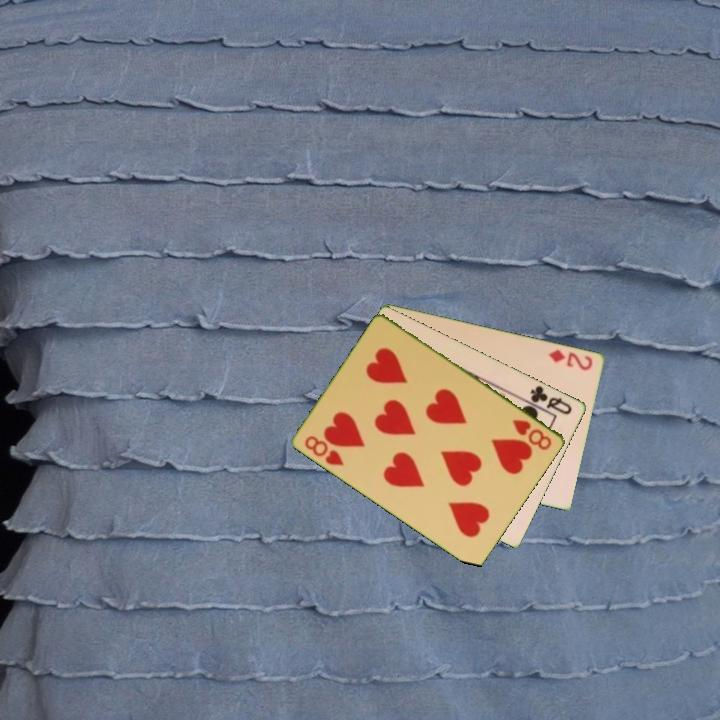2d: (545, 346, 596, 373)
8h: (509, 416, 555, 453), (301, 432, 347, 469)
Qc: (522, 382, 575, 418)
